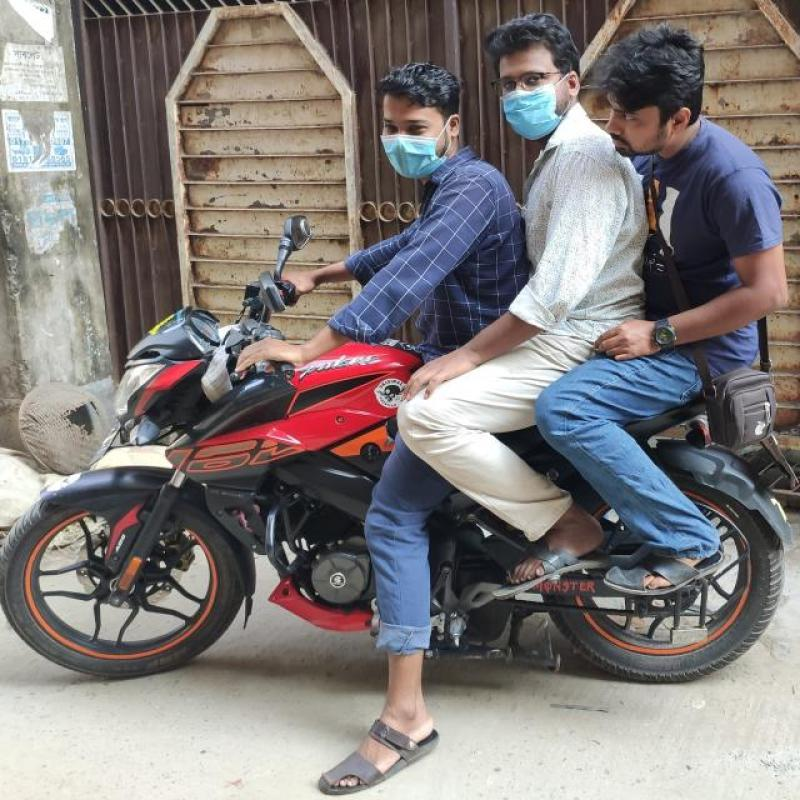nohelmet: (601, 23, 714, 163), (481, 15, 580, 148), (367, 63, 463, 183)
